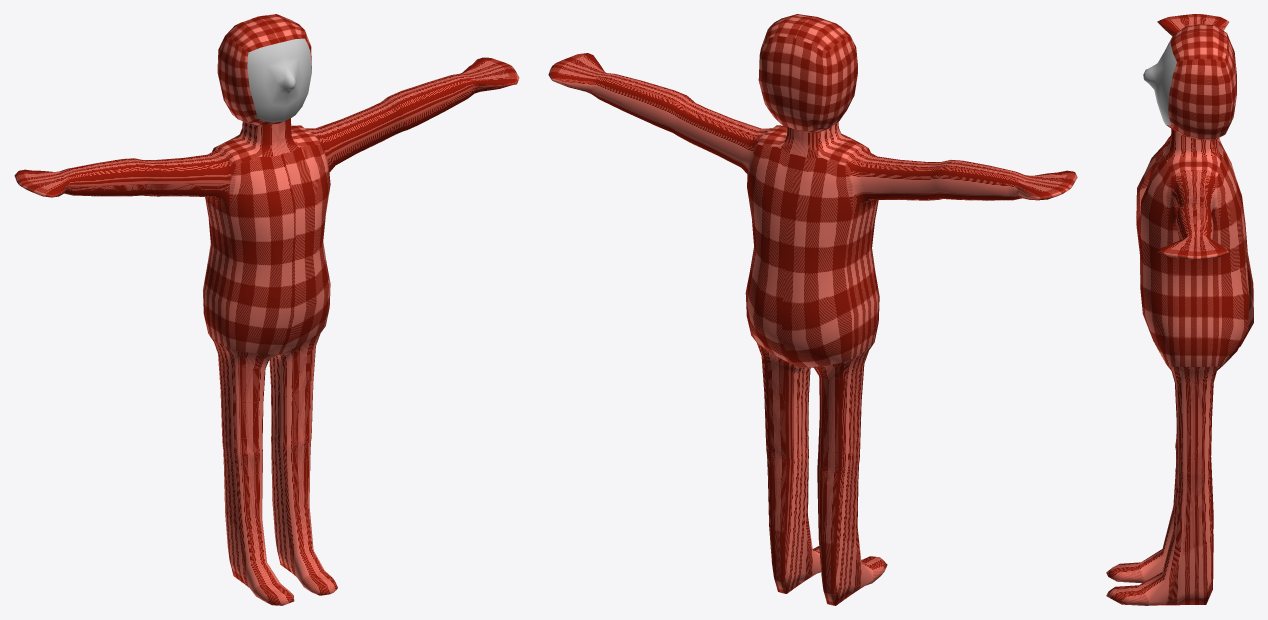
The model's file is human_no_bone.fbx.
The picture shows the model from 3 angles, left to right: view 1: azimuth 30°, elevation 25°; view 2: azimuth 150°, elevation 25°; view 3: azimuth 270°, elevation 25°; orthographic projection. The views are drawn at different scales.
Visible parts, largest first — view 1: body, face; view 2: body, face; view 3: body, face.
Part boxes in pixels (x1,y1,x2,y2): body: [14, 57, 519, 605]; face: [217, 14, 311, 125]; body: [548, 53, 1077, 605]; face: [758, 14, 857, 133]; body: [1106, 14, 1253, 605]; face: [1143, 24, 1236, 140].
Bounding box in the file's own units: 112 × 120 × 28.69.
